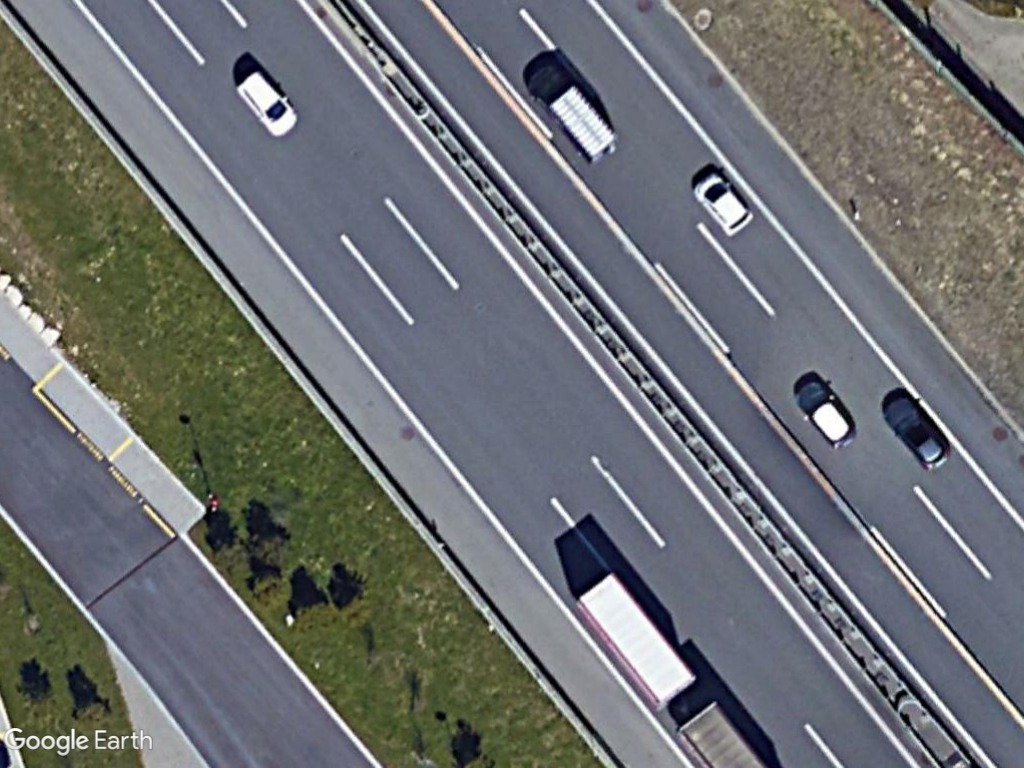car: (880, 393, 952, 471), (690, 170, 755, 237), (793, 381, 857, 449)
truck: (524, 63, 619, 161)
van: (235, 69, 301, 139)
